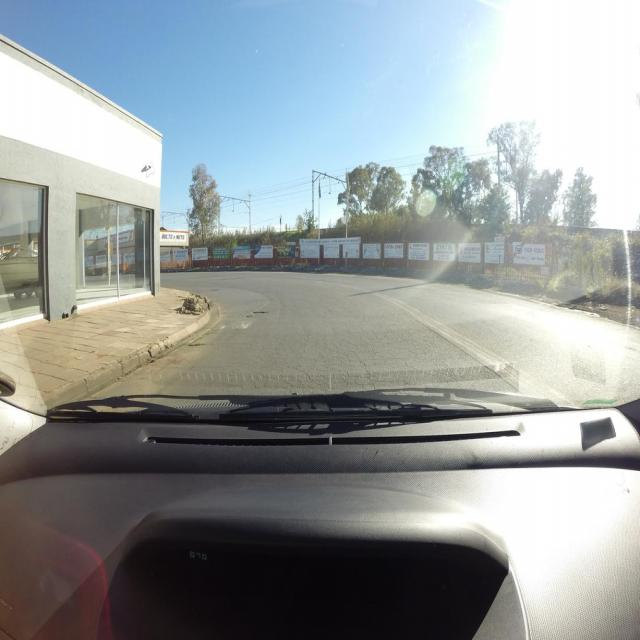Pothole: (239, 322, 253, 329), (252, 311, 268, 314), (245, 315, 253, 318)
